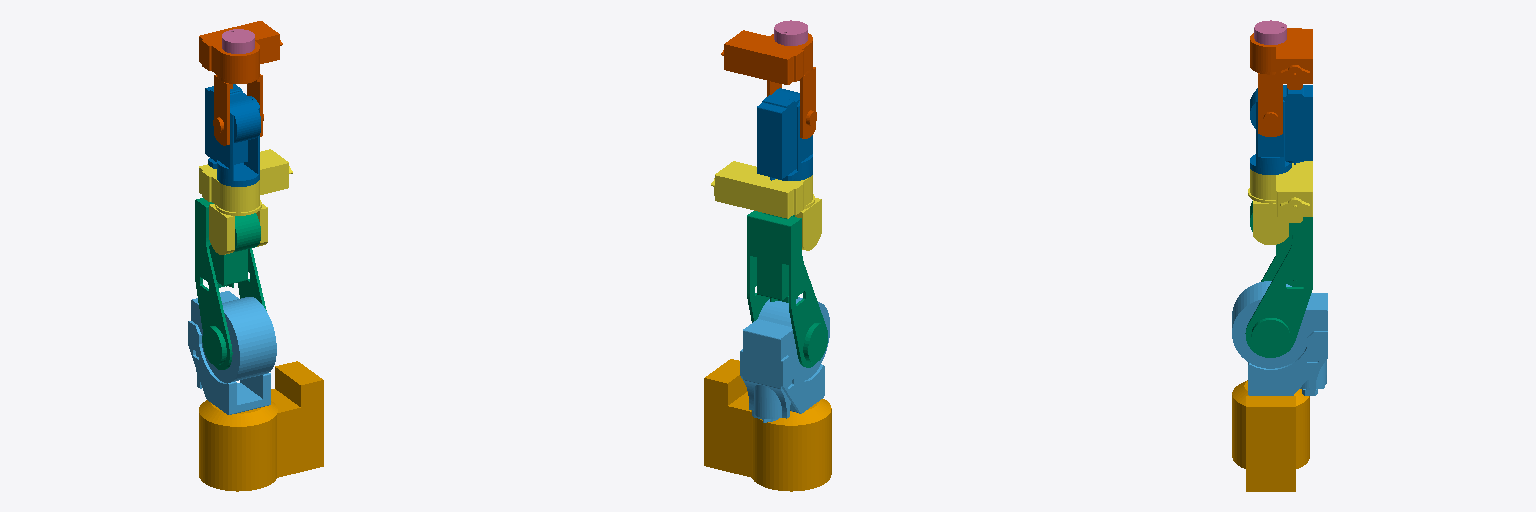
robot.urdf — 6dof_concept_1_urdf_prep:
<?xml version="1.0" ?>
<robot name="6dof_concept_1_urdf_prep">

<material name="silver">
  <color rgba="0.700 0.700 0.700 1.000"/>
</material>

<link name="base_link">
  <inertial>
    <origin rpy="0 0 0" xyz="0.03541347005756389 0.0005183600306190937 0.021905501999502485"/>
    <mass value="2.761024113505595"/>
    <inertia ixx="0.006701738492168965" ixy="-2.6359665318553827e-18" ixz="-0.0006391292535071705" iyy="0.012986418903446637" iyz="-1.899183393015702e-16" izz="0.011214748988578082"/>
  </inertial>
  <visual>
    <origin rpy="0 0 0" xyz="0 0 0"/>
    <geometry>
      <mesh filename="meshes/base_link.stl" scale="0.001 0.001 0.001"/>
    </geometry>
    <material name="silver"/>
    <material/>
  </visual>
  <collision>
    <origin rpy="0 0 0" xyz="0 0 0"/>
    <geometry>
      <mesh filename="meshes/base_link.stl" scale="0.001 0.001 0.001"/>
    </geometry>
  </collision>
</link>

<link name="j2_col1">
  <inertial>
    <origin rpy="0 0 0" xyz="6.210203539441473e-05 0.02022360193262969 0.0920060034420229"/>
    <mass value="1.640510945355648"/>
    <inertia ixx="0.0064472938662757315" ixy="-4.580211976374159e-06" ixz="9.271540153467164e-06" iyy="0.004240115821544266" iyz="0.0004339671433414693" izz="0.003711607592573908"/>
  </inertial>
  <visual>
    <origin rpy="0 0 0" xyz="0.0 -0.000518 -0.087002"/>
    <geometry>
      <mesh filename="meshes/j2_col1.stl" scale="0.001 0.001 0.001"/>
    </geometry>
    <material name="silver"/>
    <material/>
  </visual>
  <collision>
    <origin rpy="0 0 0" xyz="0.0 -0.000518 -0.087002"/>
    <geometry>
      <mesh filename="meshes/j2_col1.stl" scale="0.001 0.001 0.001"/>
    </geometry>
  </collision>
</link>

<link name="j3_col1">
  <inertial>
    <origin rpy="0 0 0" xyz="0.03488234283441313 0.02807338299354649 0.14301960517705126"/>
    <mass value="0.8658141231565175"/>
    <inertia ixx="0.005394084077039216" ixy="1.2924749410187033e-06" ixz="-5.0972780981223084e-06" iyy="0.005276410751387711" iyz="-0.0004791791947836299" izz="0.0012131769426840782"/>
  </inertial>
  <visual>
    <origin rpy="0 0 0" xyz="0.035 0.0 -0.200003"/>
    <geometry>
      <mesh filename="meshes/j3_col1.stl" scale="0.001 0.001 0.001"/>
    </geometry>
    <material name="silver"/>
    <material/>
  </visual>
  <collision>
    <origin rpy="0 0 0" xyz="0.035 0.0 -0.200003"/>
    <geometry>
      <mesh filename="meshes/j3_col1.stl" scale="0.001 0.001 0.001"/>
    </geometry>
  </collision>
</link>

<link name="j4_col1">
  <inertial>
    <origin rpy="0 0 0" xyz="0.04350109645676063 0.02243862134360378 0.05584604321757025"/>
    <mass value="0.7377291668584443"/>
    <inertia ixx="0.0012109220164390477" ixy="-0.00027339531924694405" ixz="-0.00019981856636695165" iyy="0.001812253724949059" iyz="-0.00021974351767574223" izz="0.0017322998968213165"/>
  </inertial>
  <visual>
    <origin rpy="0 0 0" xyz="0.023 1.4e-05 -0.400207"/>
    <geometry>
      <mesh filename="meshes/j4_col1.stl" scale="0.001 0.001 0.001"/>
    </geometry>
    <material name="silver"/>
    <material/>
  </visual>
  <collision>
    <origin rpy="0 0 0" xyz="0.023 1.4e-05 -0.400207"/>
    <geometry>
      <mesh filename="meshes/j4_col1.stl" scale="0.001 0.001 0.001"/>
    </geometry>
  </collision>
</link>

<link name="j5_col1">
  <inertial>
    <origin rpy="0 0 0" xyz="-0.00014894962446596906 0.022718098897124908 0.07734086752788522"/>
    <mass value="0.615525634152797"/>
    <inertia ixx="0.0014497980809450584" ixy="1.6279913722597977e-06" ixz="-5.614681096301378e-06" iyy="0.001125182509674999" iyz="7.983749037449722e-06" izz="0.0006212821678967812"/>
  </inertial>
  <visual>
    <origin rpy="0 0 0" xyz="0.0 1.4e-05 -0.492987"/>
    <geometry>
      <mesh filename="meshes/j5_col1.stl" scale="0.001 0.001 0.001"/>
    </geometry>
    <material name="silver"/>
    <material/>
  </visual>
  <collision>
    <origin rpy="0 0 0" xyz="0.0 1.4e-05 -0.492987"/>
    <geometry>
      <mesh filename="meshes/j5_col1.stl" scale="0.001 0.001 0.001"/>
    </geometry>
  </collision>
</link>

<link name="j6_col1">
  <inertial>
    <origin rpy="0 0 0" xyz="0.04414554459216736 0.023780875862989492 0.0986914854366765"/>
    <mass value="0.5970043625116633"/>
    <inertia ixx="0.0010428722446966798" ixy="-0.0001610931259033786" ixz="-9.498191295831144e-05" iyy="0.0012949190987031067" iyz="-0.0001433505166601335" izz="0.0011549257794071515"/>
  </inertial>
  <visual>
    <origin rpy="0 0 0" xyz="0.028 2.8e-05 -0.597595"/>
    <geometry>
      <mesh filename="meshes/j6_col1.stl" scale="0.001 0.001 0.001"/>
    </geometry>
    <material name="silver"/>
    <material/>
  </visual>
  <collision>
    <origin rpy="0 0 0" xyz="0.028 2.8e-05 -0.597595"/>
    <geometry>
      <mesh filename="meshes/j6_col1.stl" scale="0.001 0.001 0.001"/>
    </geometry>
  </collision>
</link>

<link name="end_effector_plate_col1">
  <inertial>
    <origin rpy="0 0 0" xyz="4.5056129932832977e-14 -8.319773096848749e-05 0.009979684827416402"/>
    <mass value="0.05015945370537802"/>
    <inertia ixx="1.1110658734658774e-05" ixy="7.690908356588903e-18" ixz="-4.5592801963070015e-18" iyy="1.1194256387271617e-05" iyz="2.089941280395843e-08" izz="1.8960994722227003e-05"/>
  </inertial>
  <visual>
    <origin rpy="0 0 0" xyz="-0.0 1.4e-05 -0.729982"/>
    <geometry>
      <mesh filename="meshes/end_effector_plate_col1.stl" scale="0.001 0.001 0.001"/>
    </geometry>
    <material name="silver"/>
    <material/>
  </visual>
  <collision>
    <origin rpy="0 0 0" xyz="-0.0 1.4e-05 -0.729982"/>
    <geometry>
      <mesh filename="meshes/end_effector_plate_col1.stl" scale="0.001 0.001 0.001"/>
    </geometry>
  </collision>
</link>

<joint name="Rev28" type="continuous">
  <origin rpy="0 0 0" xyz="0.0 0.000518 0.087002"/>
  <parent link="base_link"/>
  <child link="j2_col1"/>
  <axis xyz="0.0 0.0 1.0"/>
</joint>
<transmission name="Rev28_tran">
  <type>transmission_interface/SimpleTransmission</type>
  <joint name="Rev28">
    <hardwareInterface>PositionJointInterface</hardwareInterface>
  </joint>
  <actuator name="Rev28_actr">
    <hardwareInterface>PositionJointInterface</hardwareInterface>
    <mechanicalReduction>1</mechanicalReduction>
  </actuator>
</transmission>

<joint name="Rev29" type="continuous">
  <origin rpy="0 0 0" xyz="-0.035 -0.000518 0.113001"/>
  <parent link="j2_col1"/>
  <child link="j3_col1"/>
  <axis xyz="-1.0 0.0 -0.0"/>
</joint>
<transmission name="Rev29_tran">
  <type>transmission_interface/SimpleTransmission</type>
  <joint name="Rev29">
    <hardwareInterface>PositionJointInterface</hardwareInterface>
  </joint>
  <actuator name="Rev29_actr">
    <hardwareInterface>PositionJointInterface</hardwareInterface>
    <mechanicalReduction>1</mechanicalReduction>
  </actuator>
</transmission>

<joint name="Rev30" type="continuous">
  <origin rpy="0 0 0" xyz="0.012 -1.4e-05 0.200204"/>
  <parent link="j3_col1"/>
  <child link="j4_col1"/>
  <axis xyz="-1.0 0.0 -0.0"/>
</joint>
<transmission name="Rev30_tran">
  <type>transmission_interface/SimpleTransmission</type>
  <joint name="Rev30">
    <hardwareInterface>PositionJointInterface</hardwareInterface>
  </joint>
  <actuator name="Rev30_actr">
    <hardwareInterface>PositionJointInterface</hardwareInterface>
    <mechanicalReduction>1</mechanicalReduction>
  </actuator>
</transmission>

<joint name="Rev31" type="continuous">
  <origin rpy="0 0 0" xyz="0.023 0.0 0.09278"/>
  <parent link="j4_col1"/>
  <child link="j5_col1"/>
  <axis xyz="-0.0 0.0 1.0"/>
</joint>
<transmission name="Rev31_tran">
  <type>transmission_interface/SimpleTransmission</type>
  <joint name="Rev31">
    <hardwareInterface>PositionJointInterface</hardwareInterface>
  </joint>
  <actuator name="Rev31_actr">
    <hardwareInterface>PositionJointInterface</hardwareInterface>
    <mechanicalReduction>1</mechanicalReduction>
  </actuator>
</transmission>

<joint name="Rev32" type="continuous">
  <origin rpy="0 0 0" xyz="-0.028 -1.4e-05 0.104608"/>
  <parent link="j5_col1"/>
  <child link="j6_col1"/>
  <axis xyz="1.0 0.0 0.0"/>
</joint>
<transmission name="Rev32_tran">
  <type>transmission_interface/SimpleTransmission</type>
  <joint name="Rev32">
    <hardwareInterface>PositionJointInterface</hardwareInterface>
  </joint>
  <actuator name="Rev32_actr">
    <hardwareInterface>PositionJointInterface</hardwareInterface>
    <mechanicalReduction>1</mechanicalReduction>
  </actuator>
</transmission>

<joint name="Rev33" type="continuous">
  <origin rpy="0 0 0" xyz="0.028 1.4e-05 0.132387"/>
  <parent link="j6_col1"/>
  <child link="end_effector_plate_col1"/>
  <axis xyz="0.0 0.0 1.0"/>
</joint>
<transmission name="Rev33_tran">
  <type>transmission_interface/SimpleTransmission</type>
  <joint name="Rev33">
    <hardwareInterface>PositionJointInterface</hardwareInterface>
  </joint>
  <actuator name="Rev33_actr">
    <hardwareInterface>PositionJointInterface</hardwareInterface>
    <mechanicalReduction>1</mechanicalReduction>
  </actuator>
</transmission>

</robot>

--- Render facts (derived) ---
3 views of the same robot in one strip: view 1: azimuth 30°, elevation 25°; view 2: azimuth 150°, elevation 25°; view 3: azimuth 270°, elevation 25° (orthographic).
Model 6dof_concept_1_urdf_prep with 7 links and 6 joints (6 continuous), rooted at base_link, posed all joints at 0.
Links seen in each view (by area): view 1: base_link, j2_col1, j3_col1, j6_col1, j4_col1, j5_col1, end_effector_plate_col1; view 2: base_link, j3_col1, j2_col1, j6_col1, j4_col1, j5_col1, end_effector_plate_col1; view 3: base_link, j2_col1, j3_col1, j6_col1, j4_col1, j5_col1, end_effector_plate_col1.
Boxes of the visible links, <box> form: base_link: <box>199,361,323,491</box>; j2_col1: <box>188,291,276,414</box>; j3_col1: <box>195,198,266,369</box>; j6_col1: <box>199,21,282,145</box>; j4_col1: <box>199,149,292,254</box>; j5_col1: <box>205,84,260,186</box>; end_effector_plate_col1: <box>222,29,254,53</box>; base_link: <box>704,359,831,491</box>; j3_col1: <box>747,211,827,367</box>; j2_col1: <box>740,297,829,422</box>; j6_col1: <box>721,30,816,138</box>; j4_col1: <box>711,161,821,250</box>; j5_col1: <box>757,88,812,180</box>; end_effector_plate_col1: <box>774,20,807,45</box>; base_link: <box>1232,380,1309,491</box>; j2_col1: <box>1232,281,1327,395</box>; j3_col1: <box>1245,201,1312,357</box>; j6_col1: <box>1250,28,1312,136</box>; j4_col1: <box>1248,161,1312,244</box>; j5_col1: <box>1250,85,1312,174</box>; end_effector_plate_col1: <box>1254,20,1286,44</box>.
Size in the robot's own frame: 0.2019 by 0.1607 by 0.7945 metres.
7 mesh visuals loaded from 7 distinct referenced files (7 binary STL).